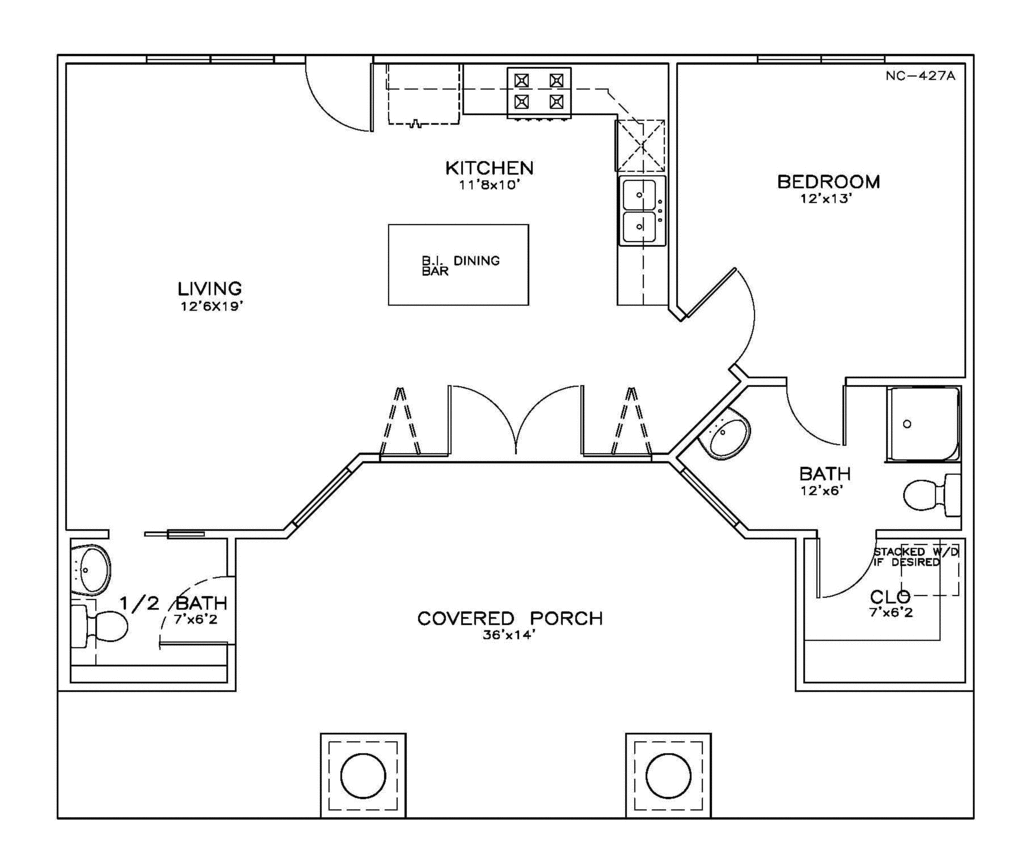door: (449, 372, 589, 463), (683, 262, 761, 369), (306, 58, 380, 140), (162, 575, 241, 647), (781, 375, 854, 447), (819, 528, 877, 601)
large_sink: (890, 469, 963, 528), (70, 601, 126, 658)
small_sink: (687, 401, 754, 468), (68, 543, 118, 597)
twin_sink: (613, 171, 664, 243)
window: (283, 438, 368, 534), (670, 468, 742, 543), (139, 43, 275, 72), (746, 54, 898, 63)
